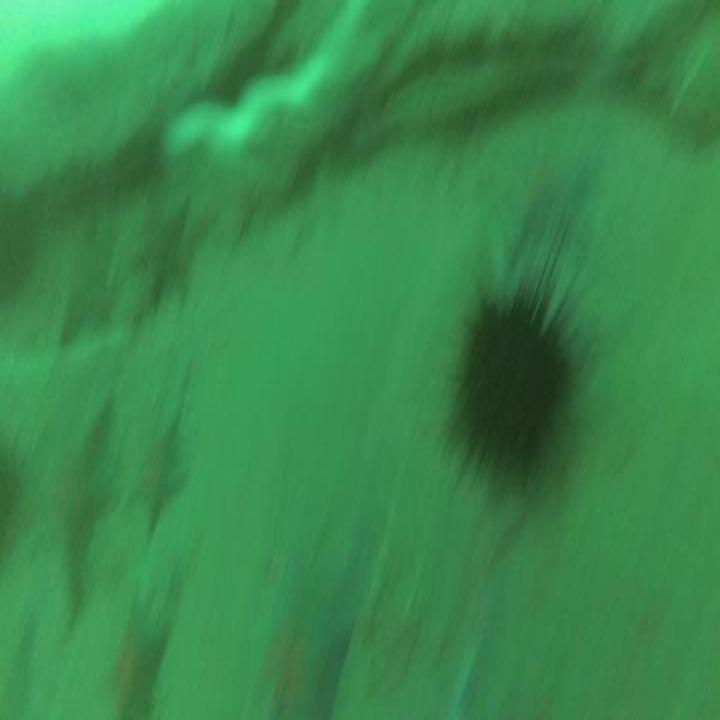echinus: (447, 272, 569, 489)
starfish: (30, 395, 122, 631), (247, 562, 352, 718), (490, 133, 600, 278), (104, 594, 170, 718), (132, 398, 190, 539)
